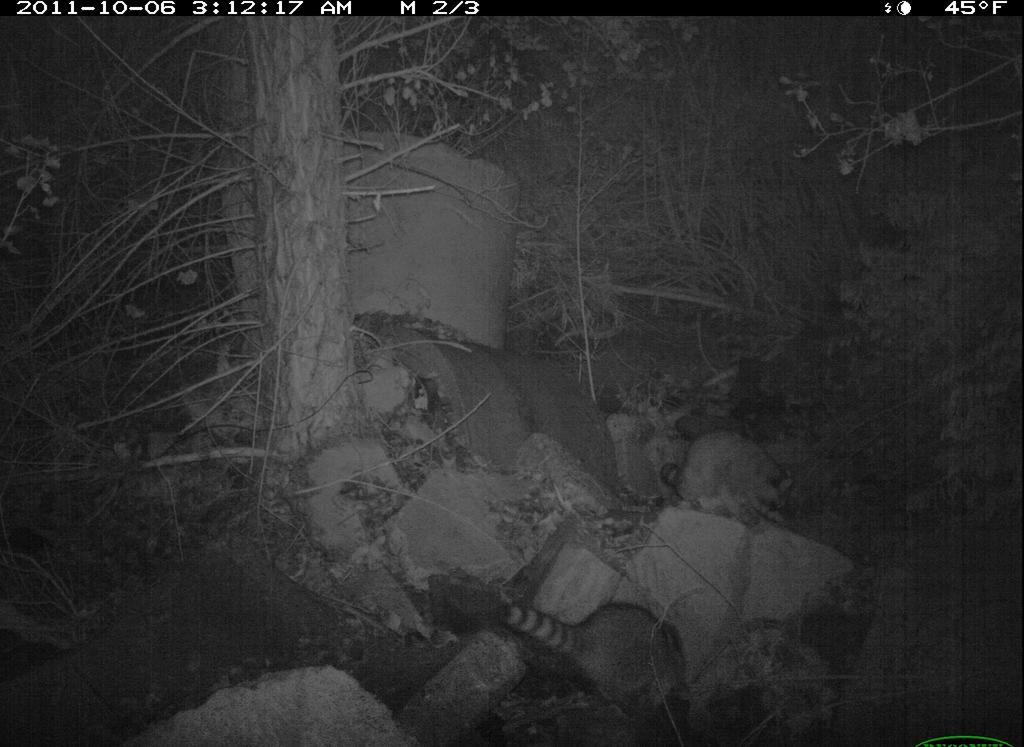raccoon: (484, 584, 710, 739), (653, 424, 815, 539)
